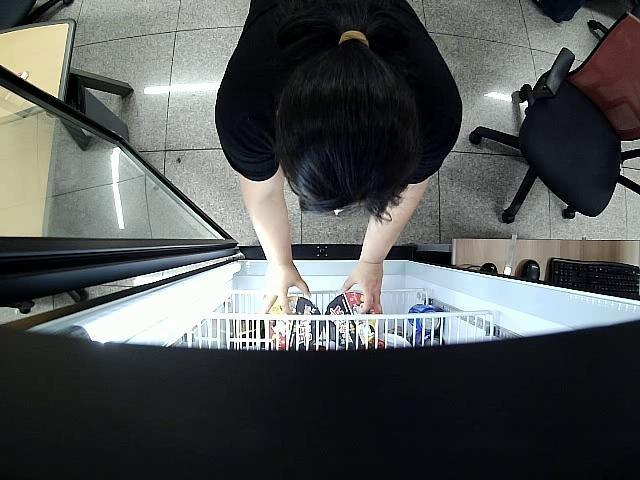07_buldak_L: (263, 298, 322, 350), (326, 292, 377, 346)
